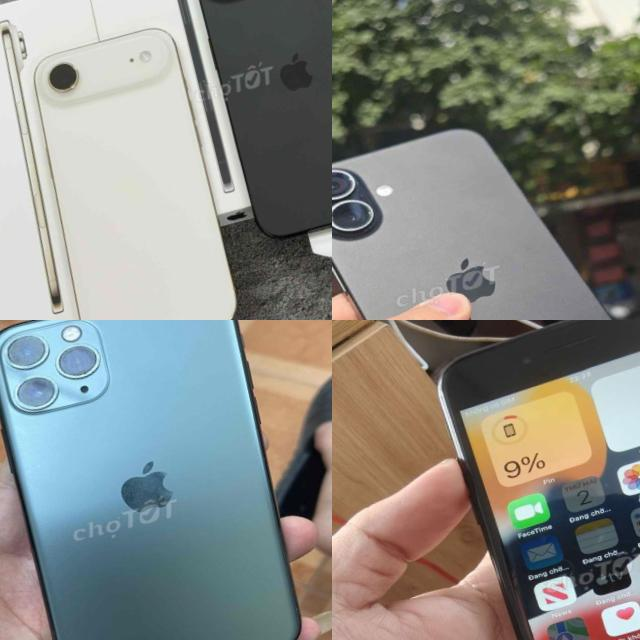gen_11: (0, 320, 332, 640)
gen_16: (332, 90, 640, 320)
gen_17: (23, 23, 253, 320), (177, 0, 332, 255)
gen_7_8: (424, 320, 640, 640)
